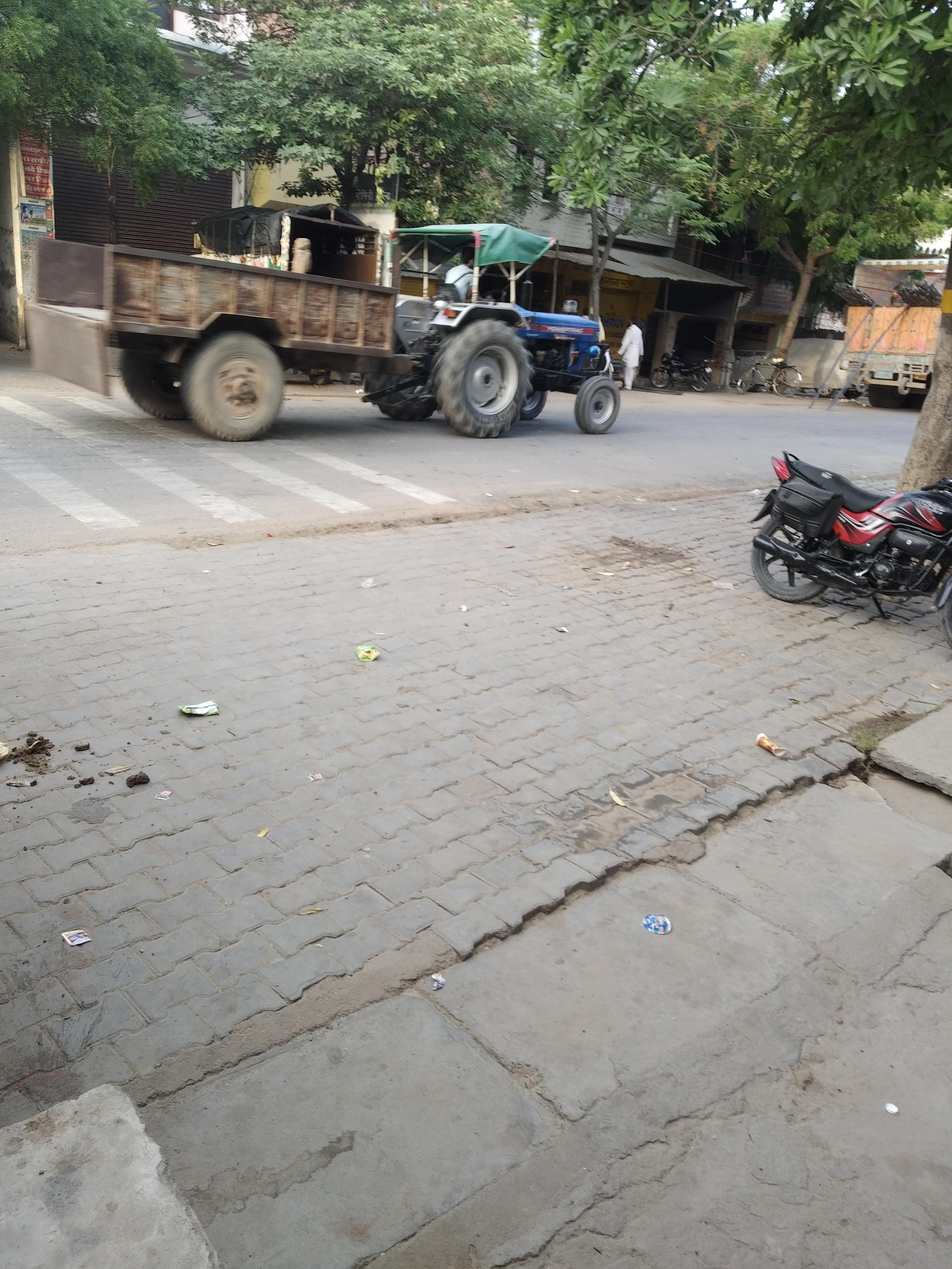non-ambulance: (90, 167, 639, 513)
